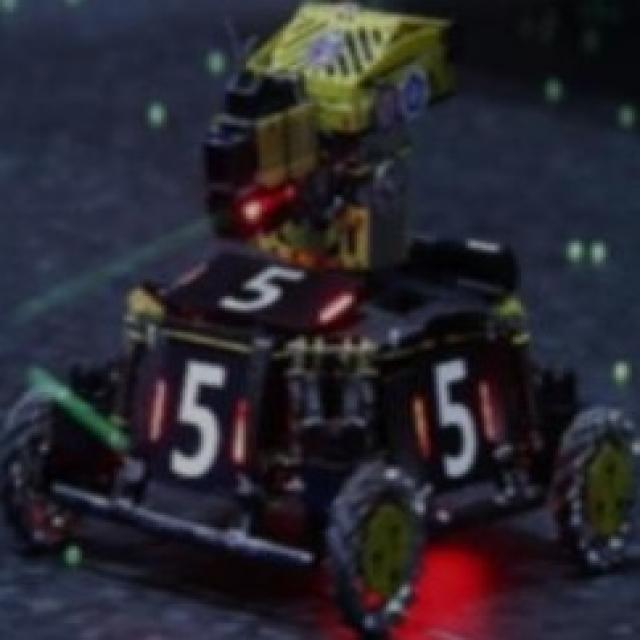R5: (166, 250, 354, 327), (146, 356, 248, 474), (412, 363, 492, 484)
